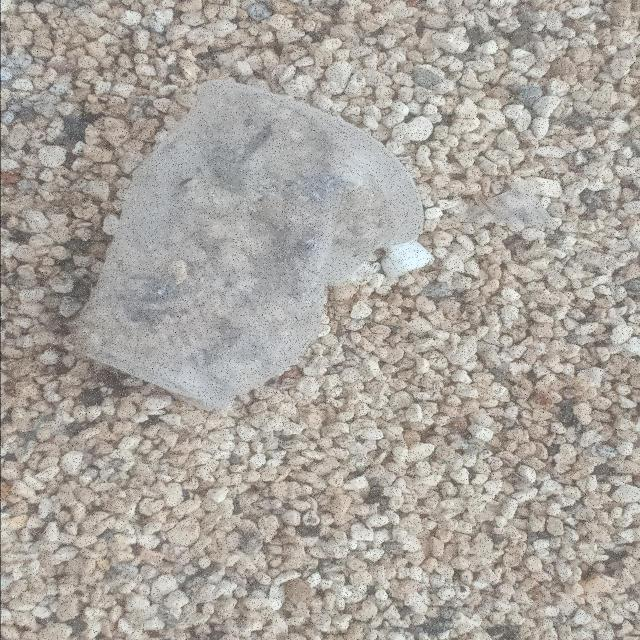plastic_waste: (72, 82, 427, 415)
